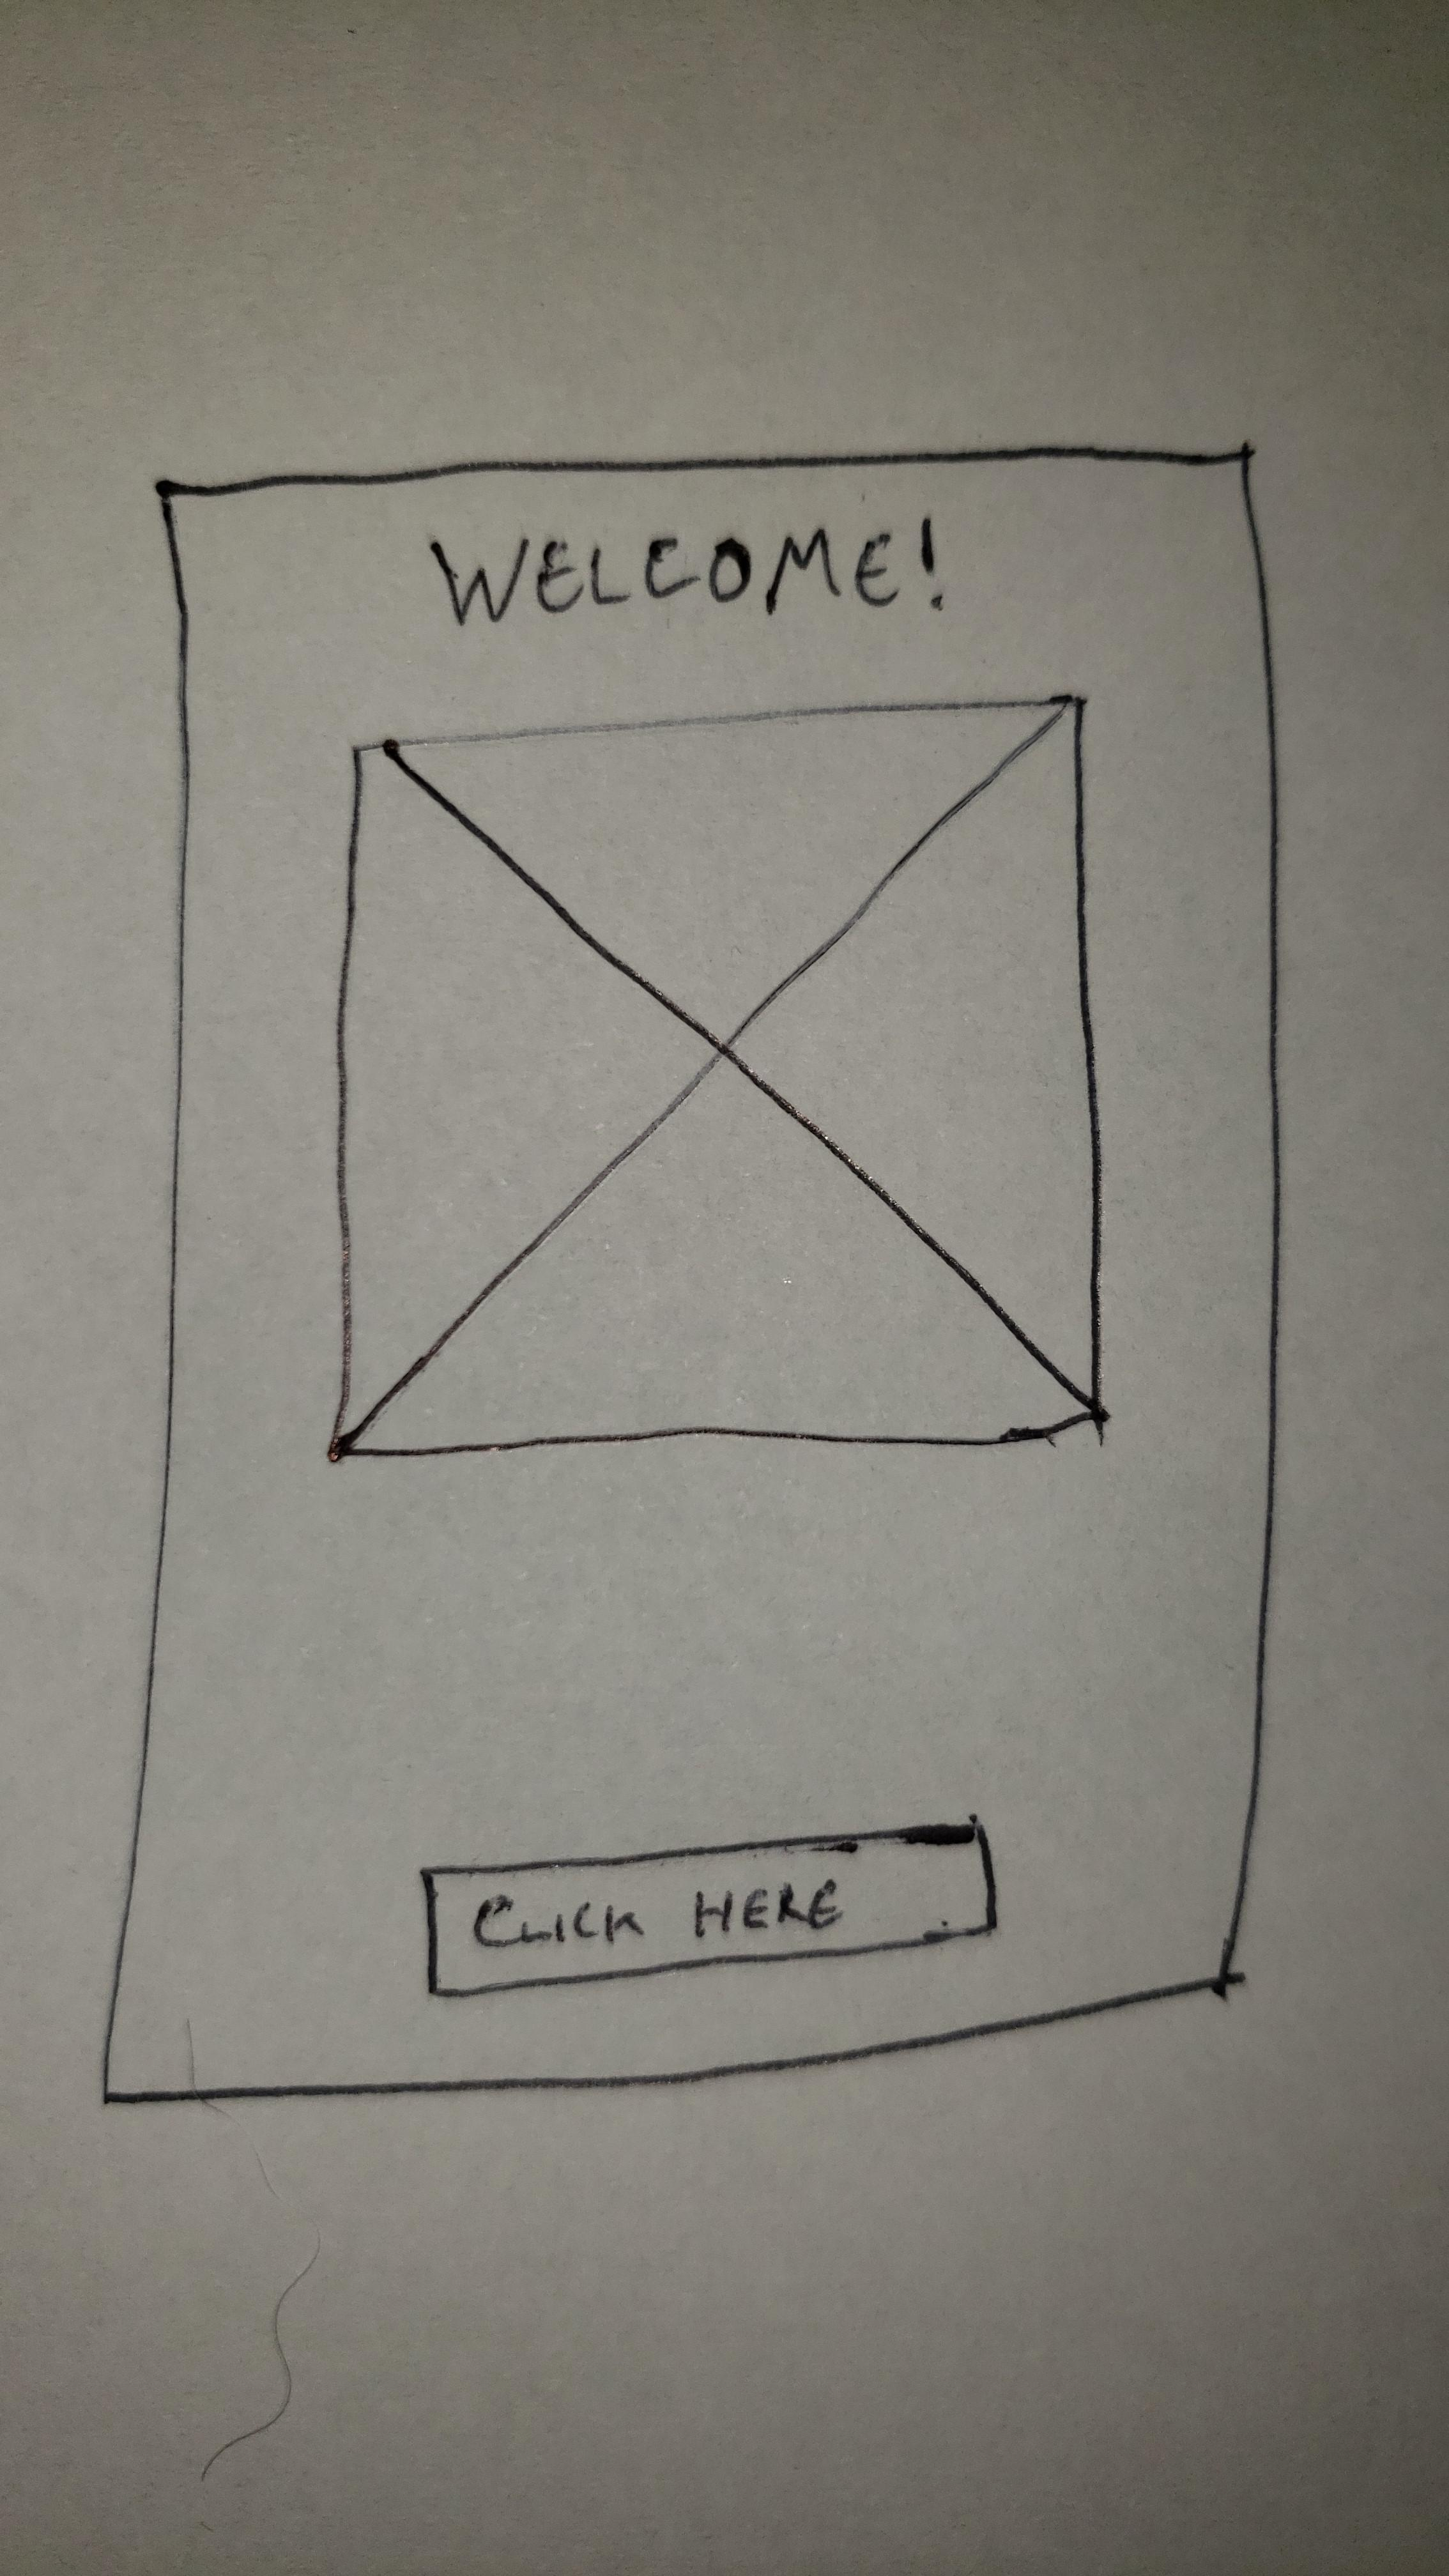Button: (423, 1821, 996, 1997)
Image: (327, 694, 1106, 1460)
Label: (418, 511, 955, 632)
Screen: (99, 446, 1277, 2100)
